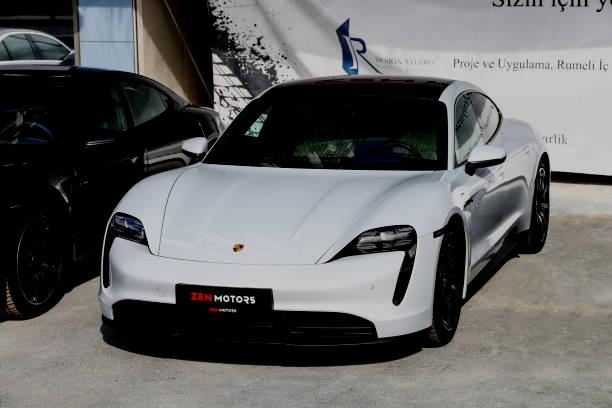porsche: (230, 239, 248, 257)
